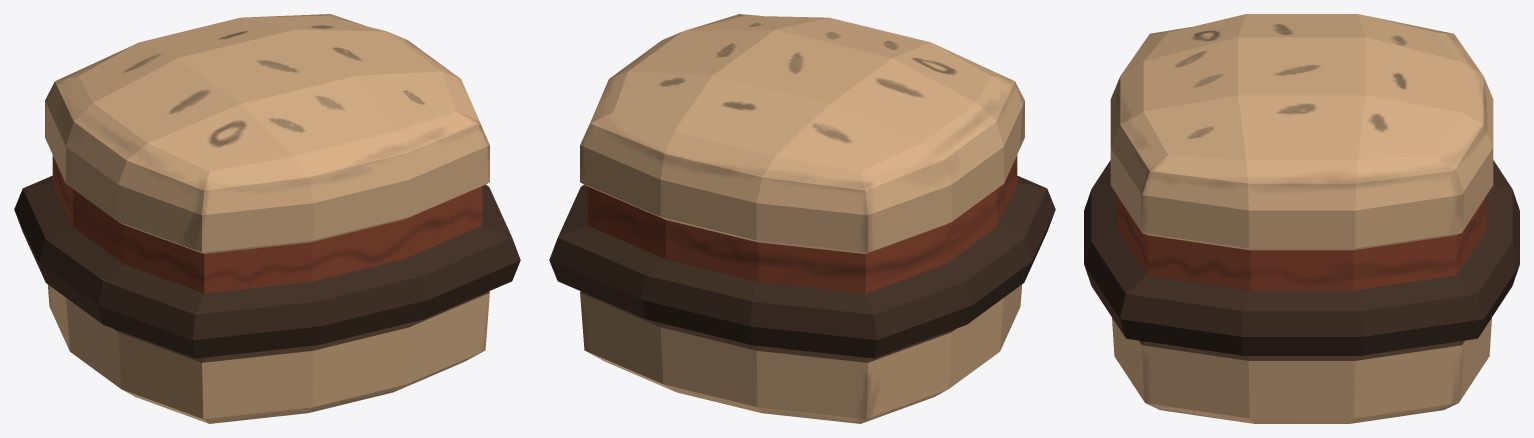
The model's file is Hamburger_Small.fbx.
3 renders of one model, left to right at view 1: azimuth 30°, elevation 25°; view 2: azimuth 150°, elevation 25°; view 3: azimuth 270°, elevation 25°, orthographic.
Parts seen in each view (by area): view 1: Cube.006; view 2: Cube.006; view 3: Cube.006.
Boxes of the visible parts, left/top/right/bottom form: Cube.006: left=14, top=14, right=520, bottom=423; Cube.006: left=549, top=14, right=1055, bottom=423; Cube.006: left=1084, top=14, right=1519, bottom=423.
Size of the model in its own units: 27.45 by 18.05 by 25.44.
